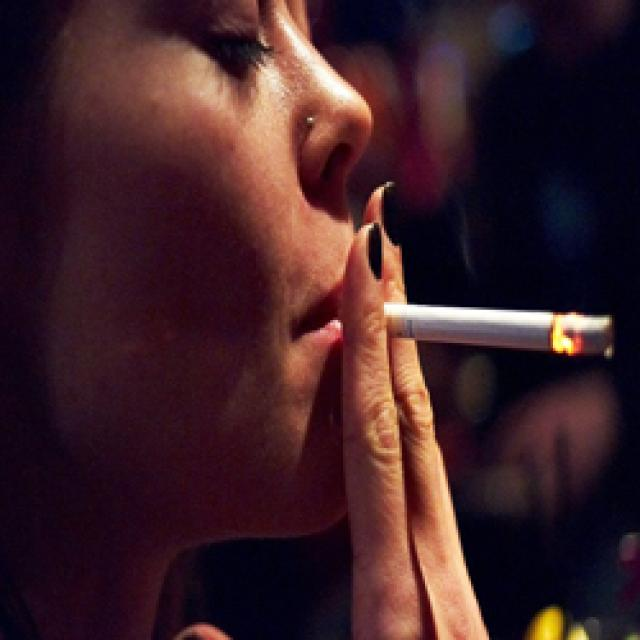Smooking: (372, 292, 624, 362)
